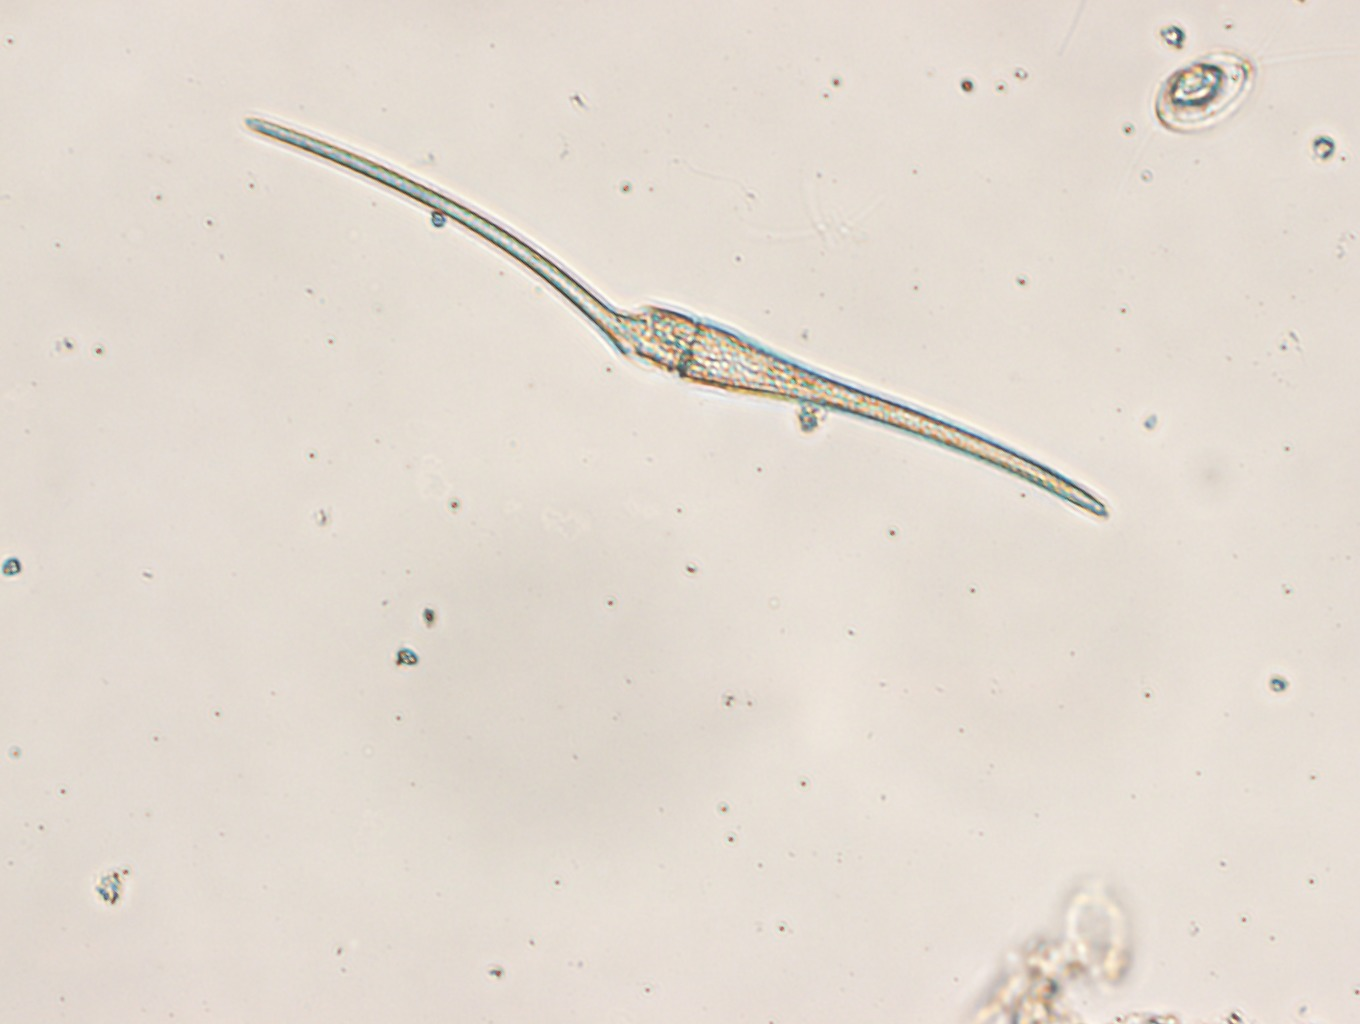ceratium fusus: (240, 112, 1108, 516)
